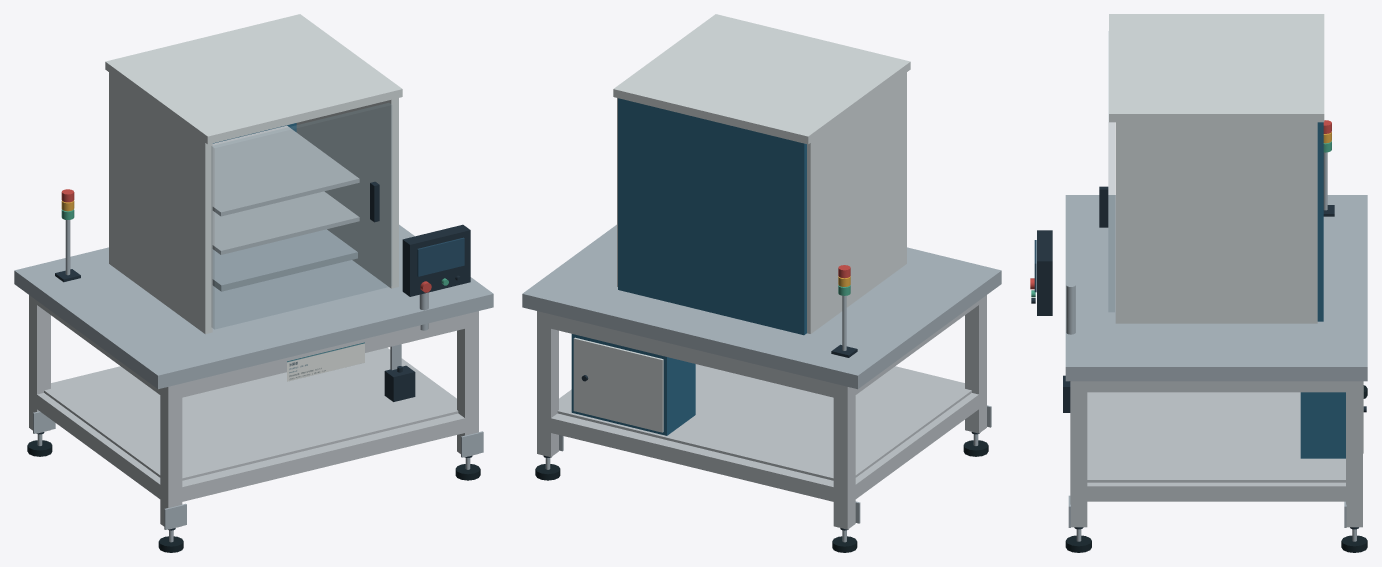
File: retort-cell.glb
The picture shows the model from 3 angles, left to right: view 1: azimuth 30°, elevation 25°; view 2: azimuth 150°, elevation 25°; view 3: azimuth 270°, elevation 25°; orthographic projection. The views are drawn at different scales.
Parts seen in each view (by area): view 1: DoorFrame_52, ClosedMachineBed_28, LowerShelf_29, ClosedRoof_51, EnclosureSide_48, EnclosureSide_49, InternalRack_56, SlottedExtrusion_22, InternalRack_55, ProcessShelf_54, SlottedExtrusion_23, SlottedExtrusion_8 (+8 smaller); view 2: ClosedBack_50, ClosedMachineBed_28, ClosedRoof_51, LowerShelf_29, EnclosureSide_48, BackDoor_31, SlottedExtrusion_20, SlottedExtrusion_21, SlottedExtrusion_3, Cabinet_30, SlottedExtrusion_24, SlottedExtrusion_13 (+2 smaller); view 3: EnclosureSide_49, ClosedMachineBed_28, ClosedRoof_51, LowerShelf_29, SlottedExtrusion_26, SlottedExtrusion_27, Cabinet_30, SlottedExtrusion_18, SlottedExtrusion_13, DoorFrame_52, ClosedBack_50, ConsoleBack_34 (+2 smaller).
Boxes of the visible parts, x1,y1,x2,y2 form: DoorFrame_52: [211, 103, 391, 328]; ClosedMachineBed_28: [14, 224, 493, 389]; LowerShelf_29: [44, 349, 458, 480]; ClosedRoof_51: [105, 14, 402, 144]; EnclosureSide_48: [109, 72, 212, 333]; EnclosureSide_49: [296, 98, 398, 288]; InternalRack_56: [212, 125, 359, 216]; SlottedExtrusion_22: [177, 413, 466, 501]; InternalRack_55: [212, 191, 359, 254]; ProcessShelf_54: [212, 229, 357, 291]; SlottedExtrusion_23: [175, 313, 467, 398]; SlottedExtrusion_8: [160, 383, 182, 529]; ClosedBack_50: [618, 98, 806, 335]; ClosedMachineBed_28: [522, 224, 1001, 389]; ClosedRoof_51: [613, 14, 910, 144]; LowerShelf_29: [557, 364, 971, 480]; EnclosureSide_48: [807, 72, 906, 333]; BackDoor_31: [573, 337, 663, 432]; SlottedExtrusion_20: [544, 413, 833, 501]; SlottedExtrusion_21: [544, 313, 840, 398]; SlottedExtrusion_3: [833, 383, 855, 529]; Cabinet_30: [571, 334, 695, 435]; SlottedExtrusion_24: [851, 392, 982, 501]; SlottedExtrusion_13: [537, 311, 558, 457]; EnclosureSide_49: [1115, 122, 1317, 323]; ClosedMachineBed_28: [1065, 195, 1367, 381]; ClosedRoof_51: [1109, 14, 1324, 122]; LowerShelf_29: [1087, 392, 1345, 482]; SlottedExtrusion_26: [1079, 482, 1354, 501]; SlottedExtrusion_27: [1083, 381, 1351, 392]; Cabinet_30: [1300, 392, 1345, 458]; SlottedExtrusion_18: [1070, 381, 1087, 527]; SlottedExtrusion_13: [1346, 381, 1362, 527]; DoorFrame_52: [1108, 31, 1114, 311]; ClosedBack_50: [1317, 122, 1323, 321]; ConsoleBack_34: [1037, 230, 1052, 315].
Bounding box in the file's own units: 1.55 × 1.71 × 1.29.
Materials: 12 (1 with a texture image).
